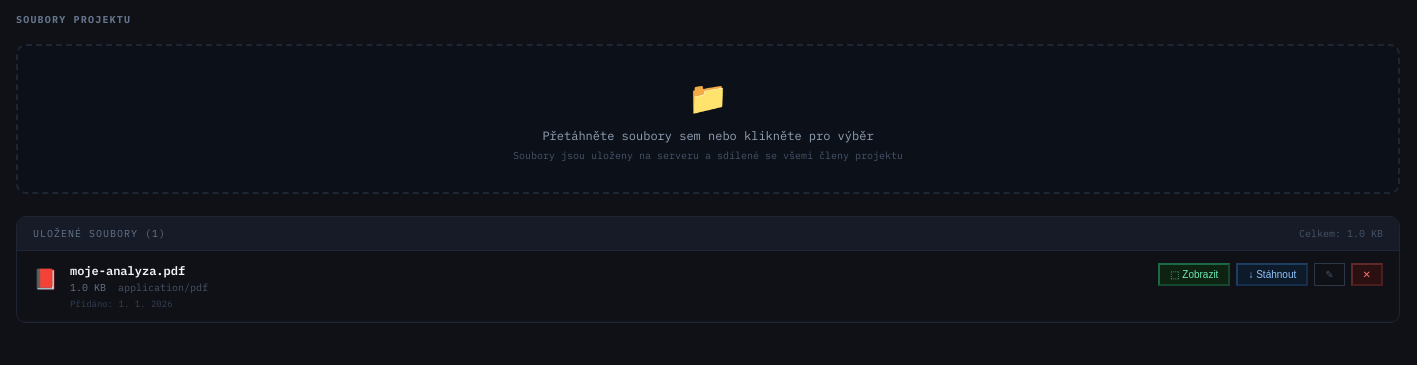
Test: SouboryView — editace poznámky › Dev může editovat poznámku k souboru, který sám uploadoval
The width and height of the screenshot is (1417, 365).
Click the button titled "Upravit poznámku" at (1329, 274), box [1314, 263, 1345, 286]
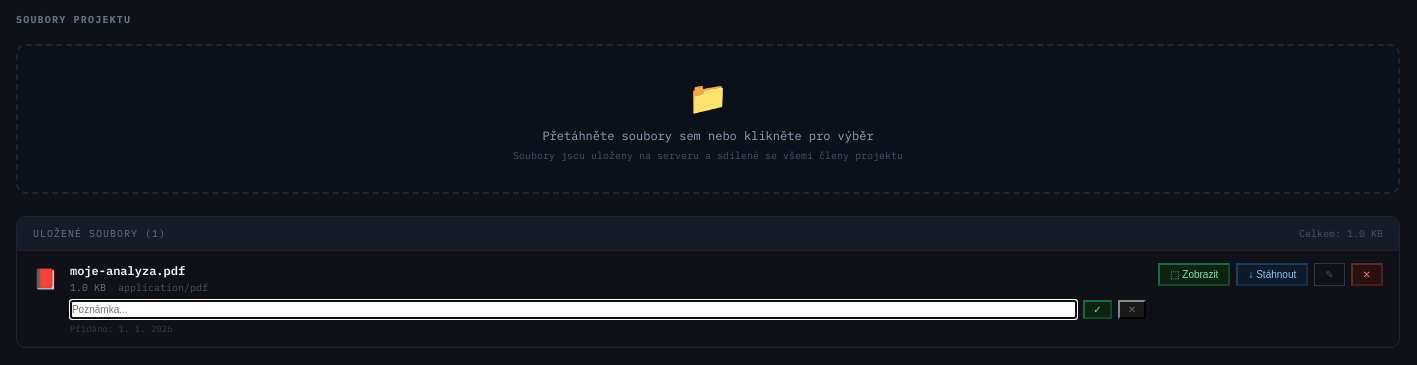
Type "Moje analýza rizik" into the field with placeholder "Poznámka..." at (574, 310), box [70, 300, 1077, 319]
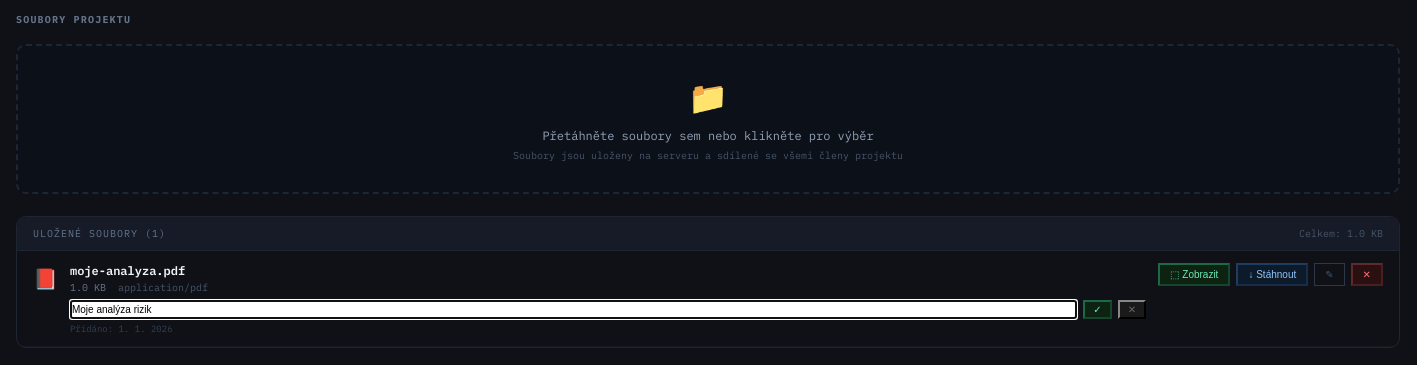
Press Enter in the field with placeholder "Poznámka...", box [70, 300, 1077, 319]
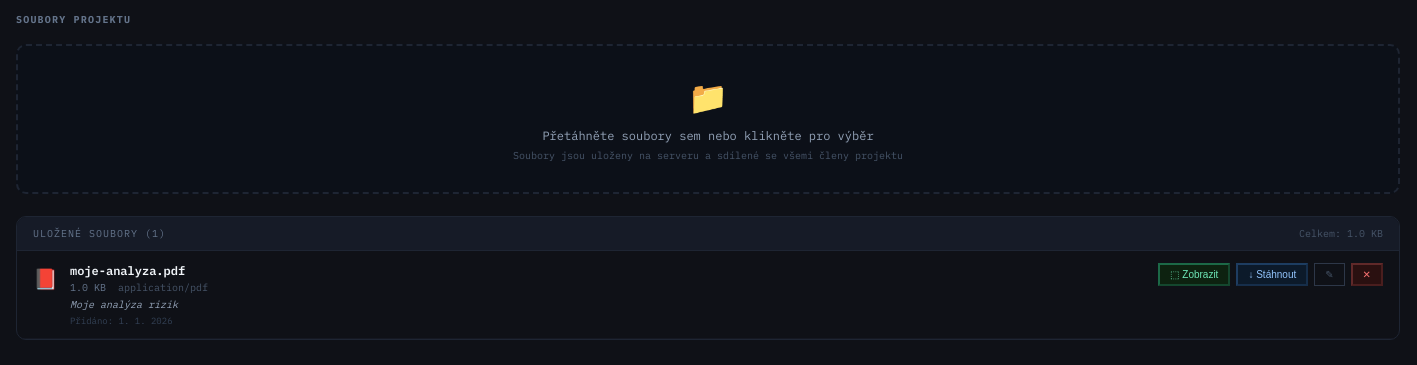
Now the text "Moje analýza rizik" is shown, box [70, 298, 178, 311]
